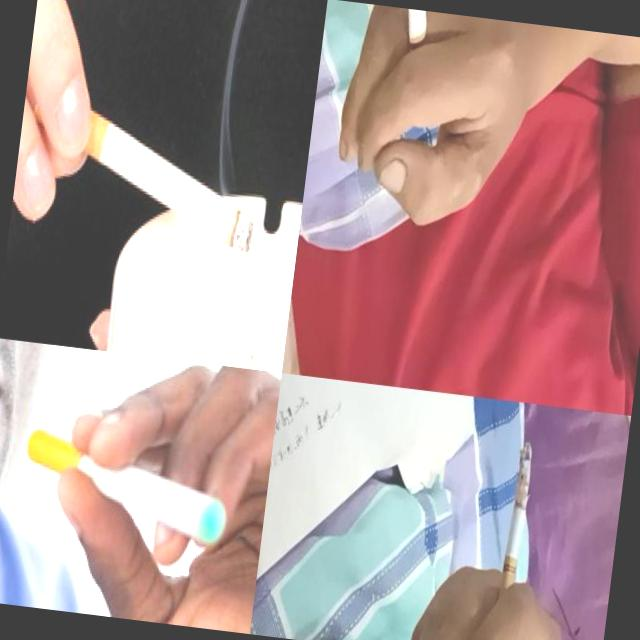smoke: (72, 102, 266, 257), (17, 426, 235, 546), (494, 439, 536, 626), (392, 7, 434, 74)
